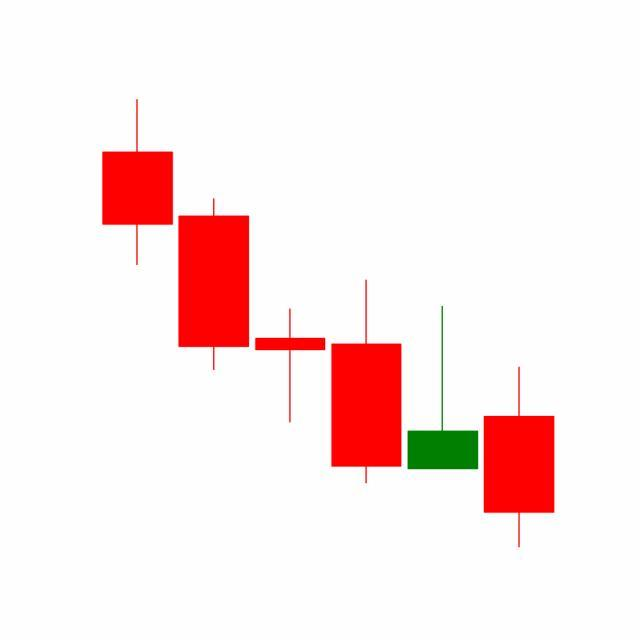Hikkake Pattern: (175, 194, 555, 549)
